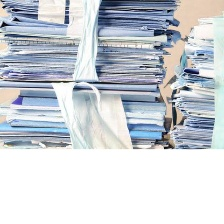book: (0, 0, 189, 150), (169, 10, 223, 150)
